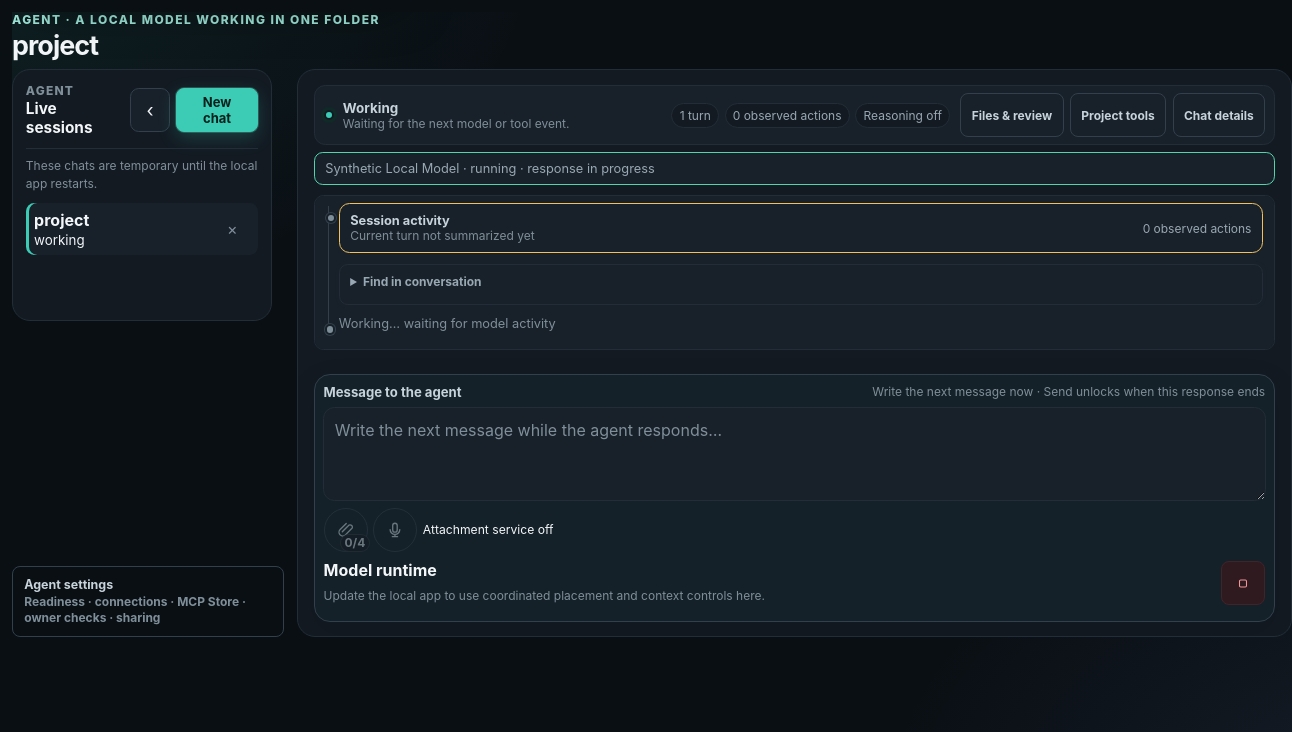
request-owned Agent Stop › offers retry after a failed stop without claiming the response ended
(page scrolled)
What coordinates should you click on to do the following:
click the button named "Stop response"
I would click on:
 (1243, 583)
Its box is [1221,561,1265,605].
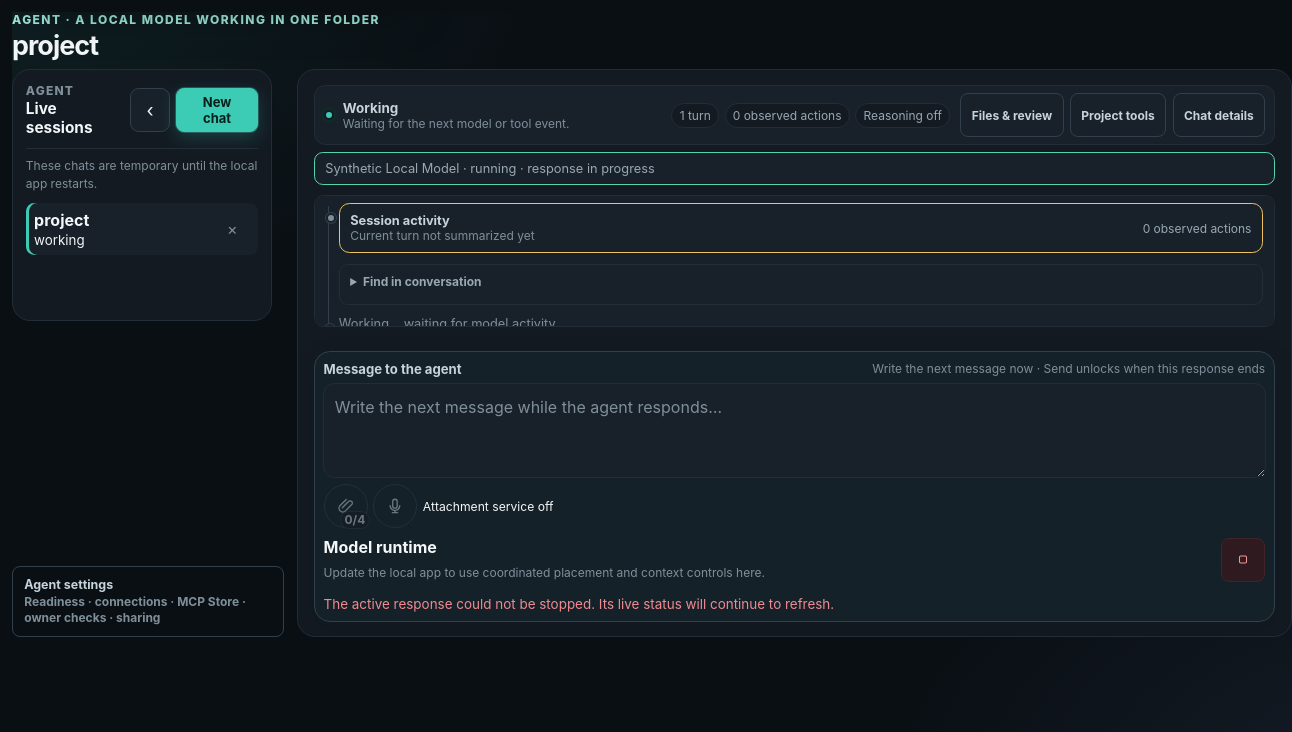
Check: the text box labelled "Message to the agent" is enabled, box [324,384,1265,477]
Check: the message shows "could not be stopped", box [324,596,834,612]
What coordinates should you click on to do the following:
click the button named "Stop response"
I would click on:
 (1243, 560)
Its box is [1221,538,1265,582].
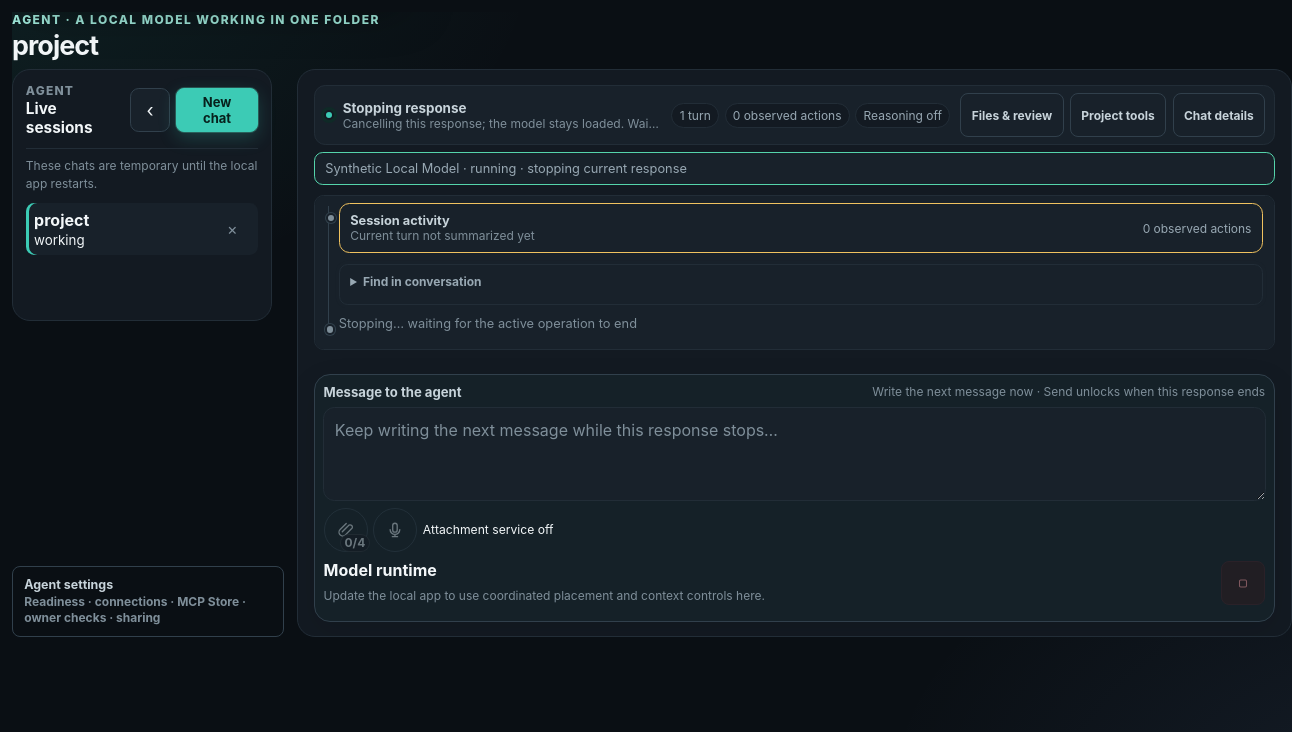
Check: the button named "Stopping…" is disabled, box [1221,561,1265,605]
